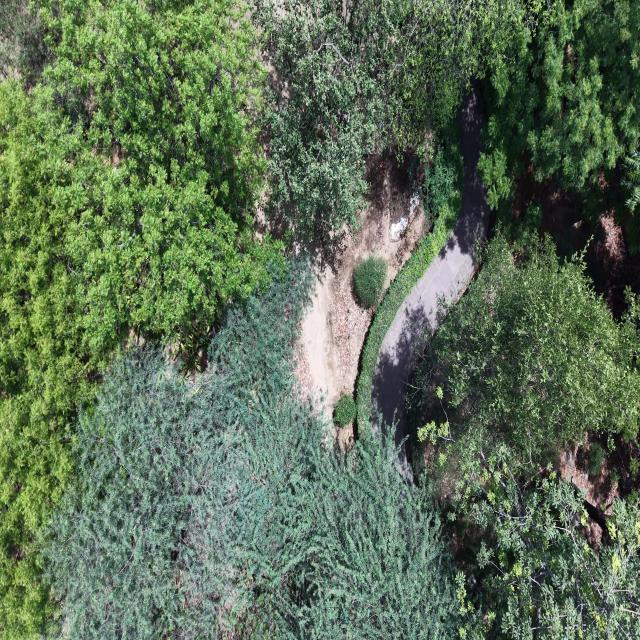DRY_AREA: (296, 157, 430, 417), (513, 157, 639, 318), (513, 158, 639, 318), (558, 435, 618, 516)
PATHWAYS: (372, 85, 489, 442)
VEGETATION_TREE: (0, 0, 639, 639), (0, 0, 279, 632), (0, 0, 278, 634), (47, 266, 458, 639), (48, 270, 317, 637), (417, 203, 639, 638), (411, 233, 639, 638), (43, 0, 269, 336), (257, 0, 531, 239), (46, 349, 228, 638), (417, 234, 639, 467), (479, 0, 639, 262), (258, 0, 401, 240), (294, 433, 459, 639), (462, 450, 639, 639), (479, 0, 639, 207), (356, 123, 462, 432), (387, 0, 536, 157), (0, 0, 51, 85), (422, 122, 462, 219), (353, 255, 387, 308), (622, 151, 639, 254), (622, 152, 639, 214), (334, 394, 356, 427), (588, 443, 605, 475)
